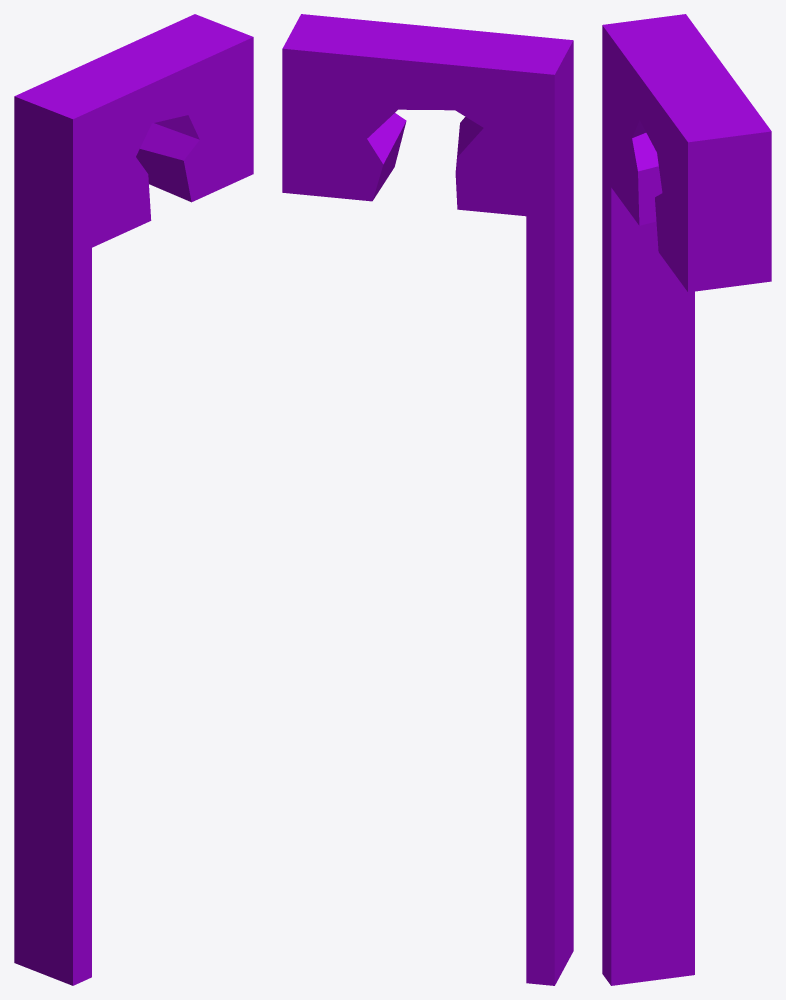
Rendered from Ruina7.fbx.
The picture shows the model from 3 angles, left to right: view 1: azimuth 30°, elevation 25°; view 2: azimuth 150°, elevation 25°; view 3: azimuth 270°, elevation 25°; orthographic projection. The views are drawn at different scales.
Visible parts, largest first — view 1: Cube.002; view 2: Cube.002; view 3: Cube.002.
Part boxes in pixels (left/top/right/bottom): Cube.002: left=14, top=14, right=253, bottom=985; Cube.002: left=282, top=14, right=573, bottom=985; Cube.002: left=602, top=14, right=771, bottom=985.
Size of the model in its own units: 2370 by 8169 by 1323.
